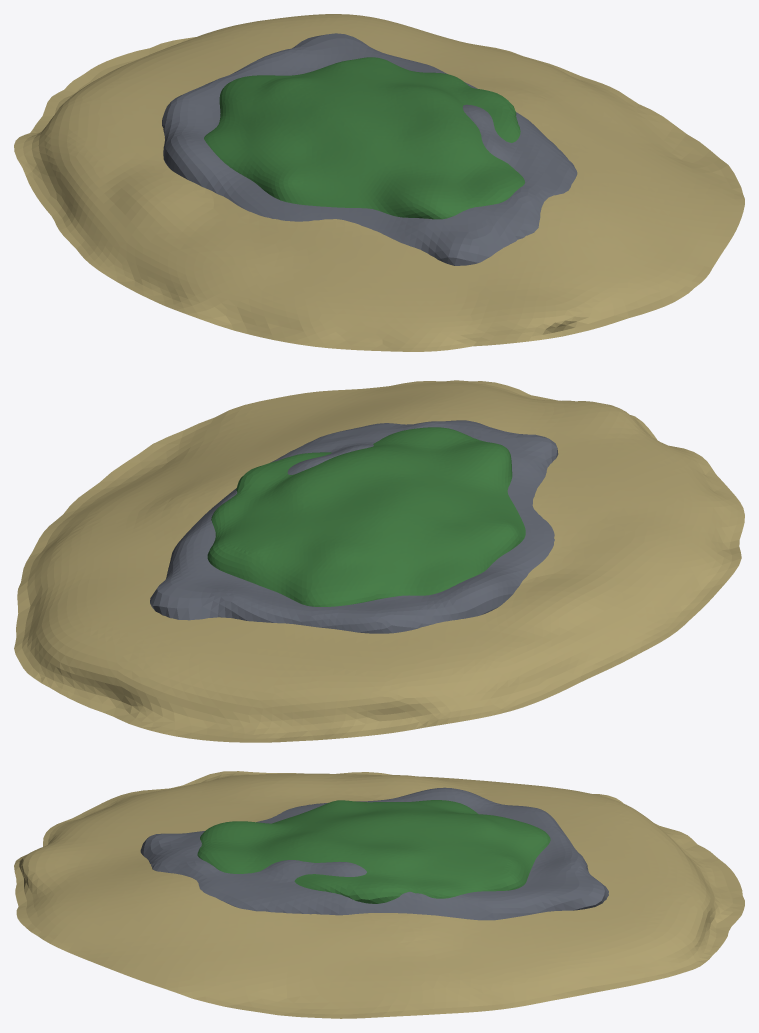
The model's file is island_custom.glb.
3 renders of one model, top to bottom at view 1: azimuth 30°, elevation 25°; view 2: azimuth 150°, elevation 25°; view 3: azimuth 270°, elevation 25°, orthographic. The views are drawn at different scales.
Visible parts, largest first — view 1: Icosphere.004, Icosphere, Icosphere.001; view 2: Icosphere.004, Icosphere, Icosphere.001; view 3: Icosphere.004, Icosphere, Icosphere.001.
Boxes of the visible parts, box(x1,y1,x2,y2) form: Icosphere.004: box(14, 14, 744, 351); Icosphere: box(204, 57, 524, 219); Icosphere.001: box(162, 33, 577, 265); Icosphere.004: box(14, 380, 744, 742); Icosphere: box(207, 427, 525, 606); Icosphere.001: box(150, 420, 558, 633); Icosphere.004: box(14, 771, 744, 1018); Icosphere: box(197, 800, 550, 903); Icosphere.001: box(140, 787, 608, 920).
Bounding box in the file's own units: 62.28 × 12.41 × 77.86.
